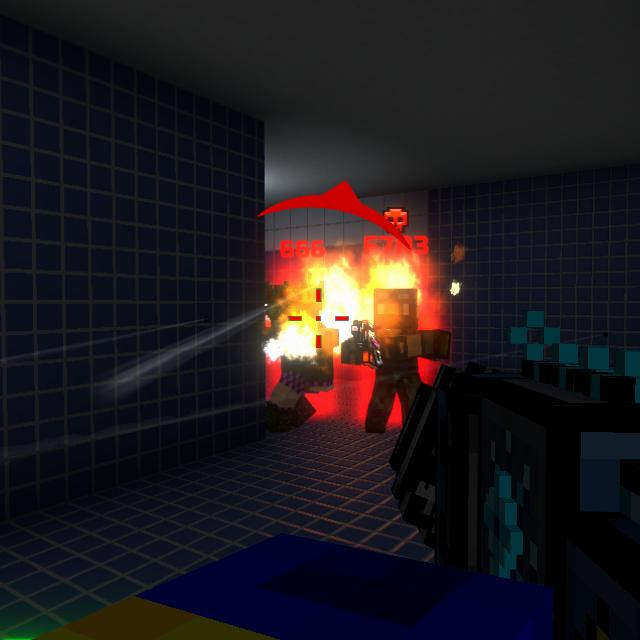Enemy: (341, 279, 454, 433), (262, 281, 336, 431)
